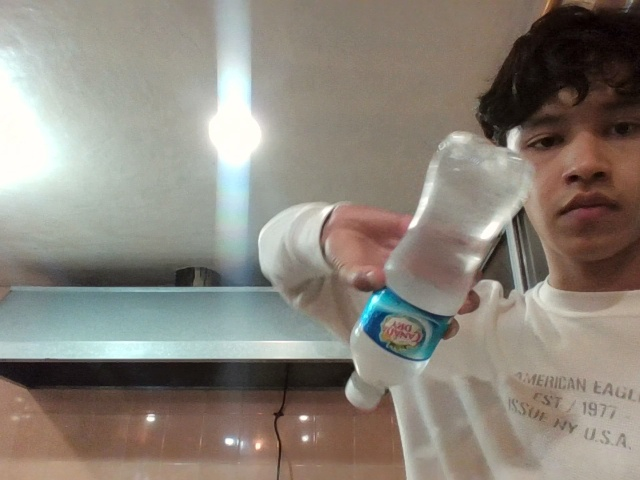botella: (316, 112, 575, 437)
